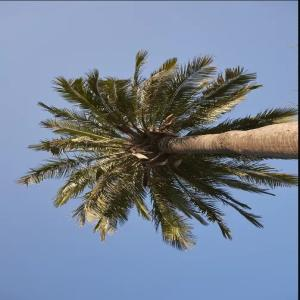palm tree: (14, 49, 299, 252)
